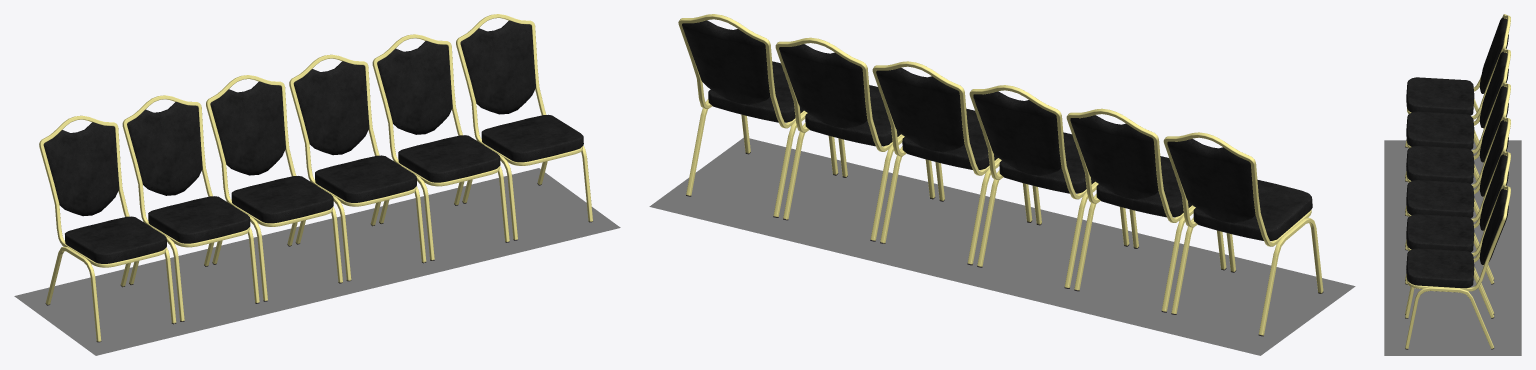
Rendered from BlackChair_Row.fbx.
3 renders of one model, left to right at view 1: azimuth 30°, elevation 25°; view 2: azimuth 150°, elevation 25°; view 3: azimuth 270°, elevation 25°, orthographic. The views are drawn at different scales.
Parts seen in each view (by area): view 1: BlackChair, BlackChair_Shadow; view 2: BlackChair, BlackChair_Shadow; view 3: BlackChair, BlackChair_Shadow.
Boxes of the visible parts, box(x1,y1,x2,y2) form: BlackChair: box(39, 14, 592, 342); BlackChair_Shadow: box(14, 168, 620, 355); BlackChair: box(678, 14, 1323, 336); BlackChair_Shadow: box(649, 137, 1355, 355); BlackChair: box(1405, 14, 1510, 349); BlackChair_Shadow: box(1384, 140, 1521, 355).
Size of the model in its own units: 315 by 98.68 by 85.
Materials: 2 (1 with a texture image).
